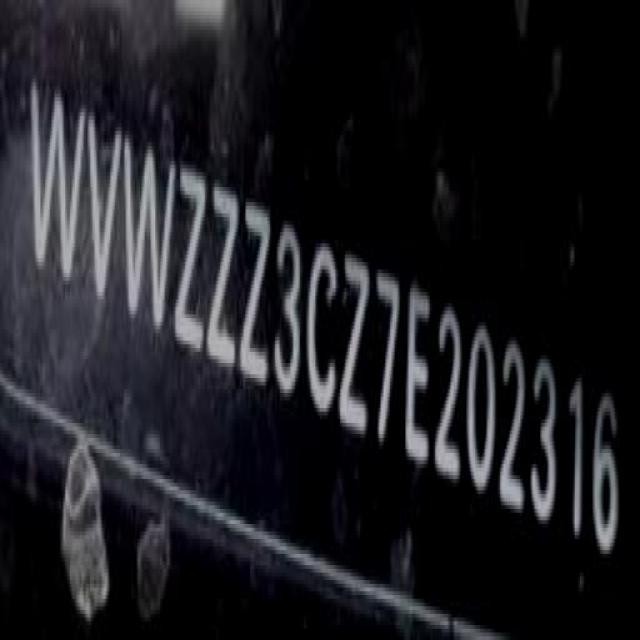0: (466, 311, 496, 505)
1: (566, 365, 583, 550)
2: (500, 334, 528, 523), (436, 302, 464, 485)
3: (274, 210, 305, 407), (532, 347, 560, 535)
6: (594, 381, 624, 561)
7: (376, 257, 404, 464)
C: (305, 230, 339, 424)
E: (403, 277, 433, 467)
V: (88, 107, 122, 302)
W: (26, 73, 86, 292), (119, 131, 173, 345)
Z: (174, 154, 210, 363), (239, 192, 273, 396), (207, 175, 240, 378), (340, 247, 372, 442)
